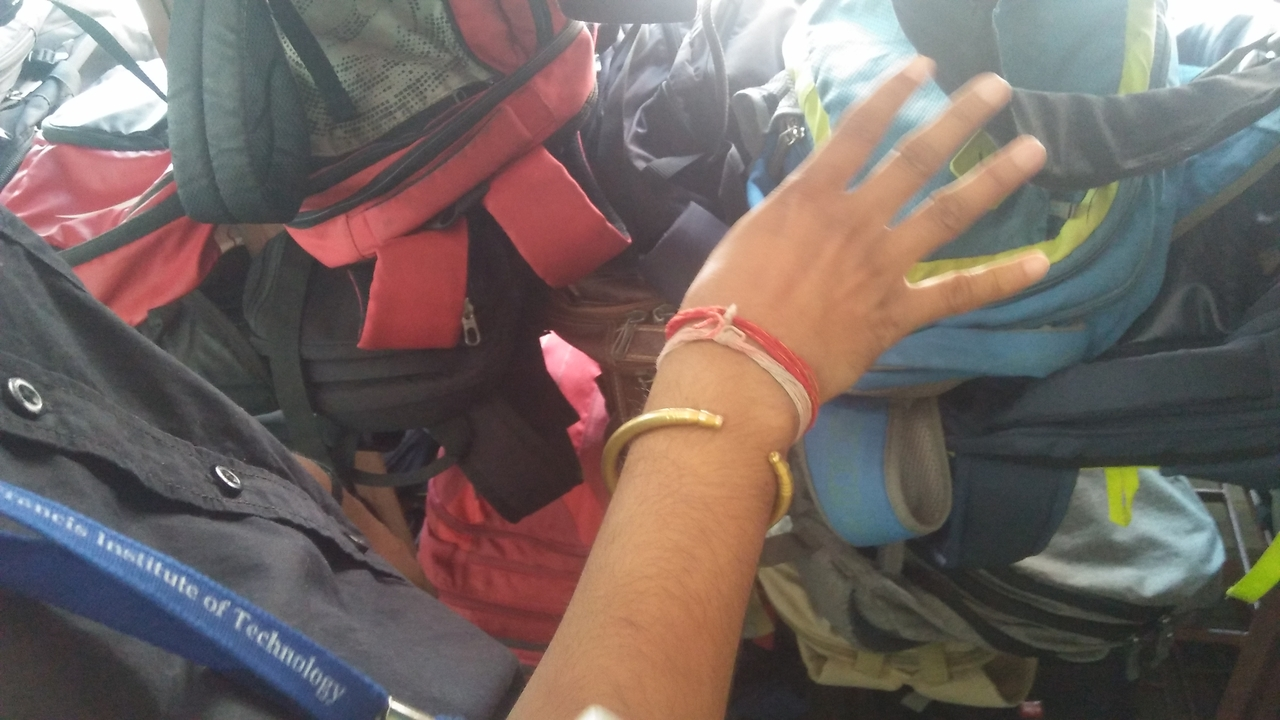fingertip: (991, 129, 1053, 179), (956, 68, 1022, 114), (1014, 244, 1060, 292), (897, 52, 938, 97)
